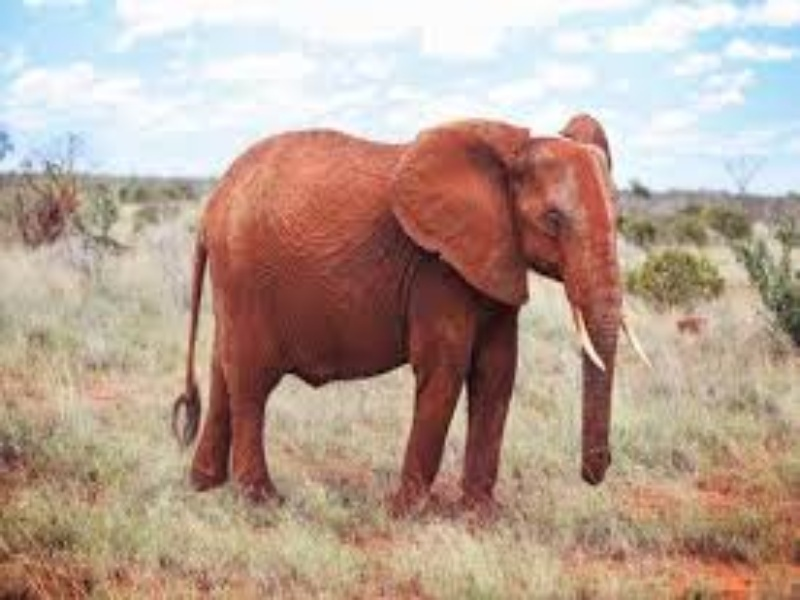elephant: (115, 70, 681, 542)
